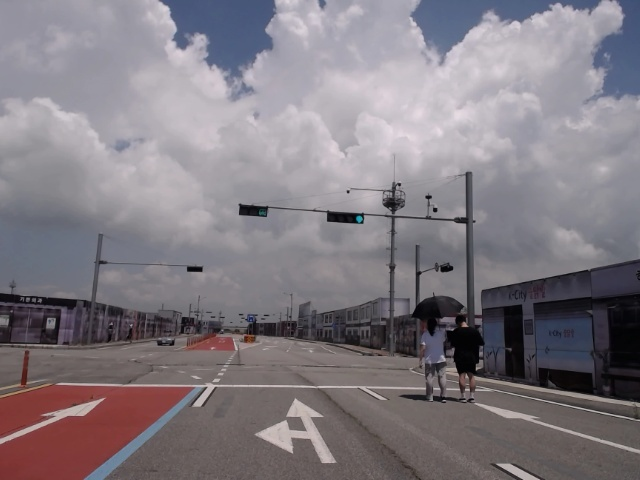straight_green_4: (326, 212, 366, 225)
